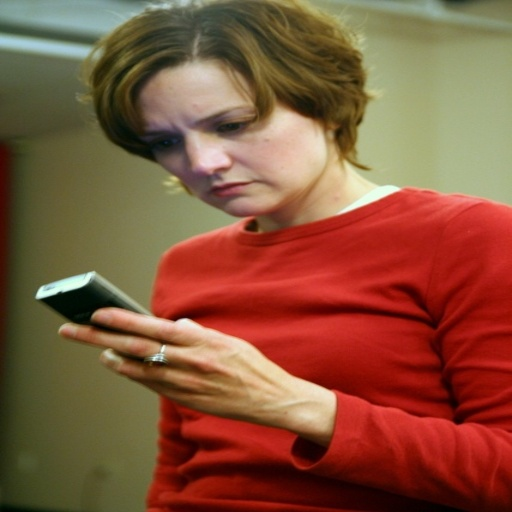hand: (50, 288, 322, 403)
